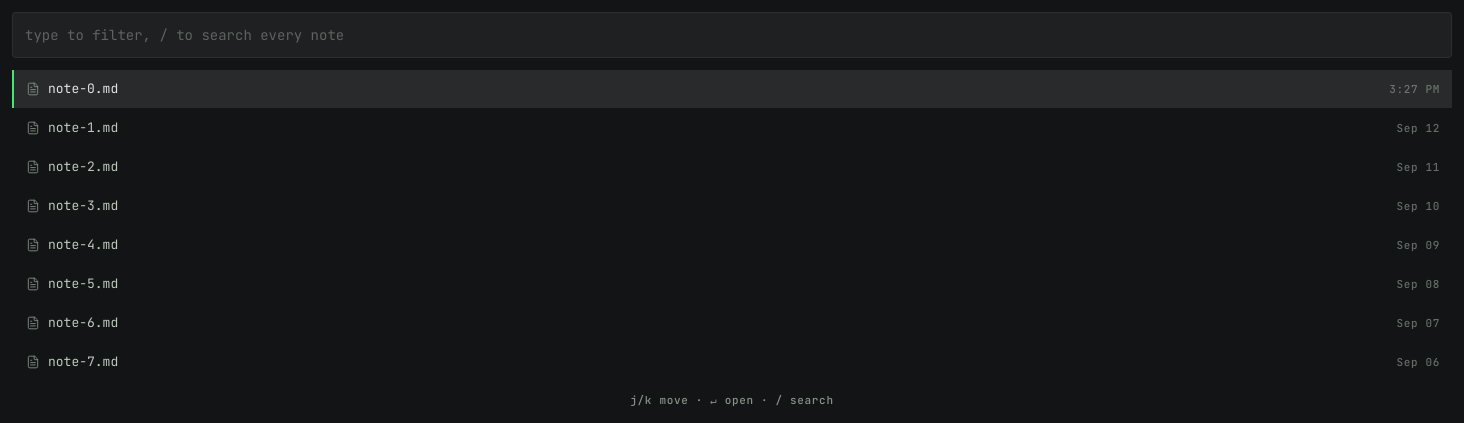
Test: RecentNotesList › plain typing filters the recent list by title
Type "note 3" into the field named "Filter recent notes or search all notes" at (732, 35), box x1=12 y1=12 x2=1452 y2=58
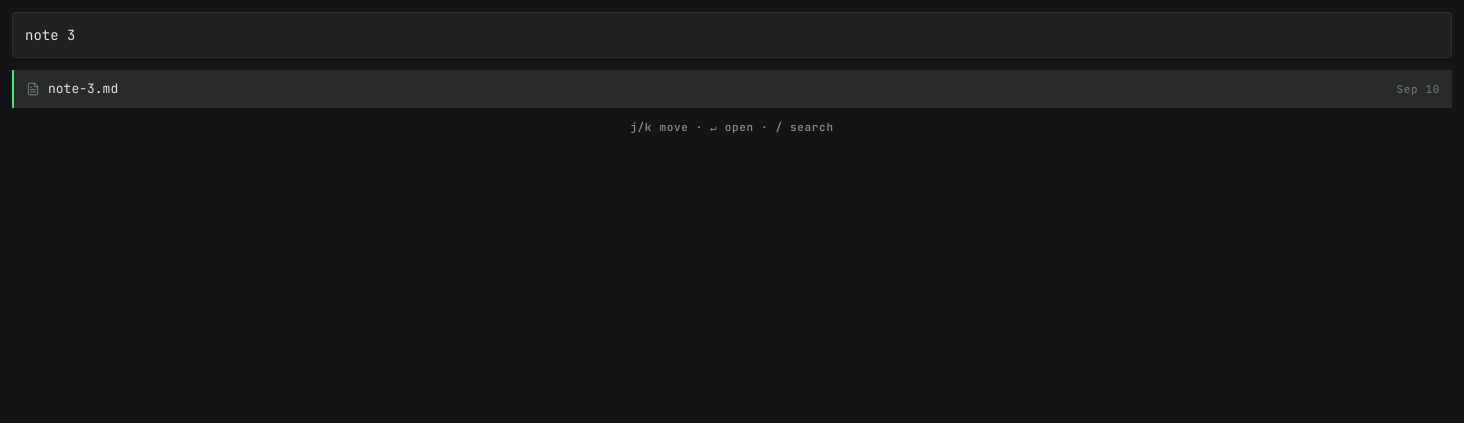
Expected: the text "note-3.md" is shown, x1=48 y1=78 x2=118 y2=100
Expected: the option "note-0.md" is gone
